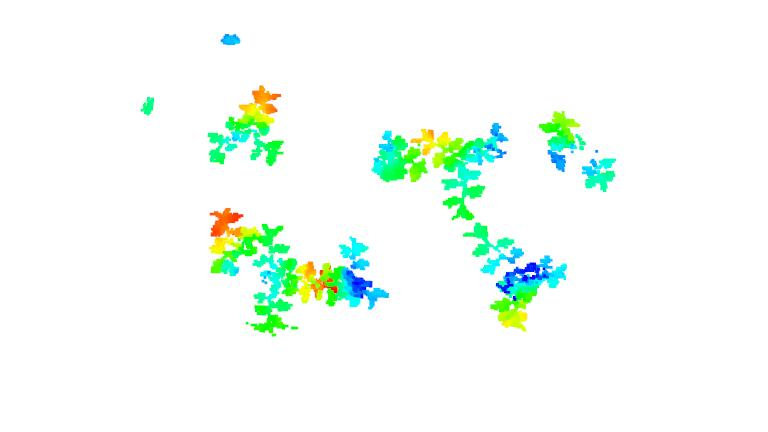chickpea: (208, 205, 329, 338), (466, 222, 569, 332), (418, 117, 508, 222), (208, 84, 286, 165), (538, 109, 612, 190), (326, 236, 395, 315), (372, 128, 428, 187)
